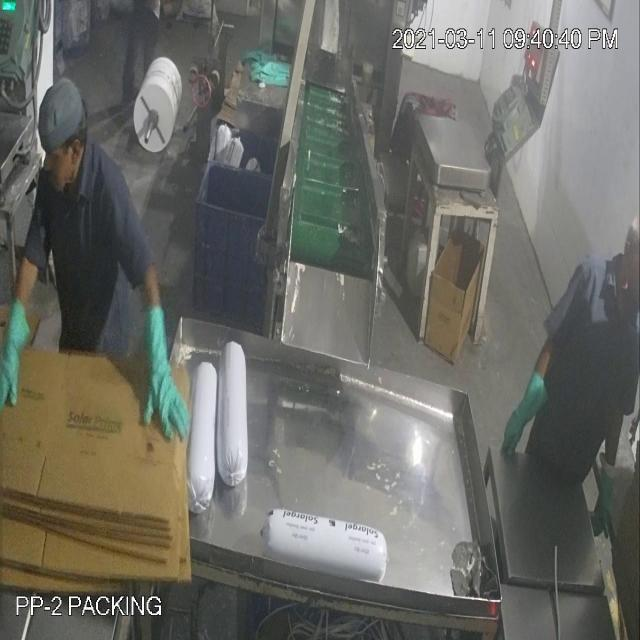Gloves: (17, 118, 522, 414)
